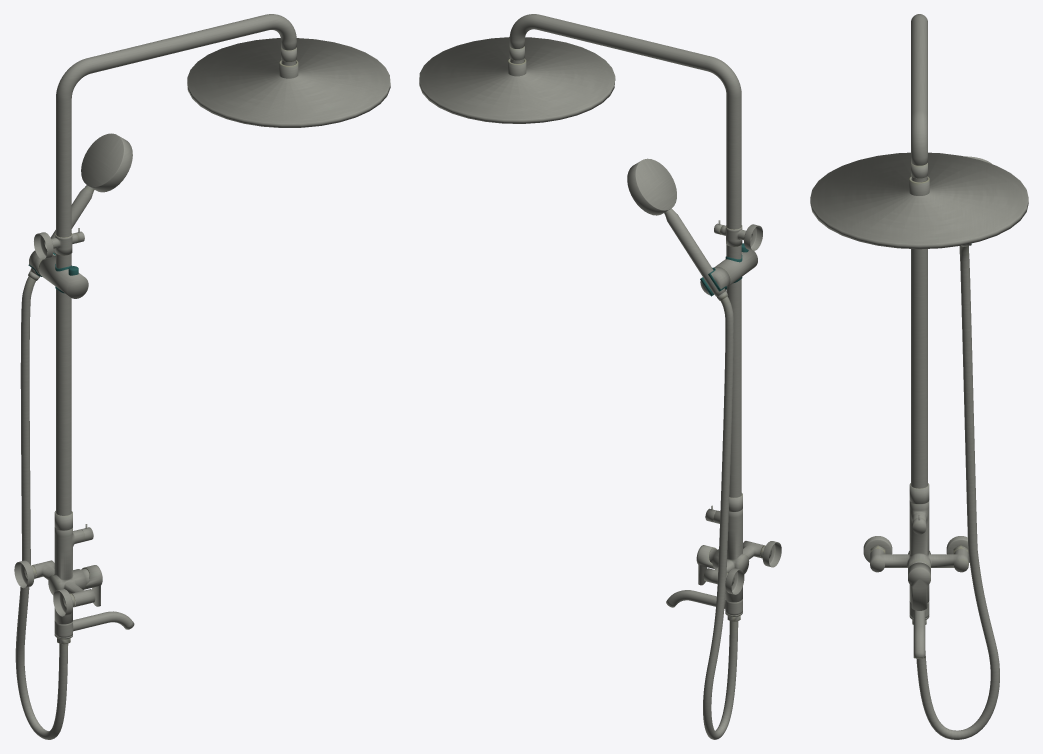
File: shower_middlepoly.fbx
3 renders of one model, left to right at view 1: azimuth 30°, elevation 25°; view 2: azimuth 150°, elevation 25°; view 3: azimuth 270°, elevation 25°, orthographic. The views are drawn at different scales.
Visible parts, largest first — view 1: defaultMaterial; view 2: defaultMaterial; view 3: defaultMaterial.
Part boxes in pixels (x1,y1,x2,y2): defaultMaterial: (14, 14, 390, 739); defaultMaterial: (419, 14, 781, 739); defaultMaterial: (810, 14, 1028, 739).
Size of the model in its own units: 103 by 200 by 53.85.
1 material, 1 textured.
